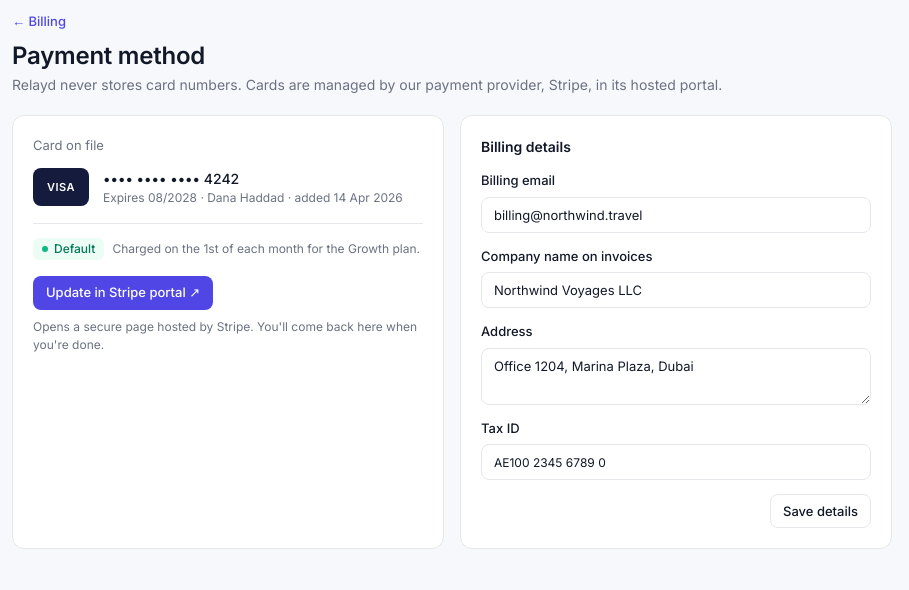
Test: the payment method page (I8) › refuses an invoice address with no billing email
Clear the field labelled "Billing email" at (676, 215), box [481,197,871,233]
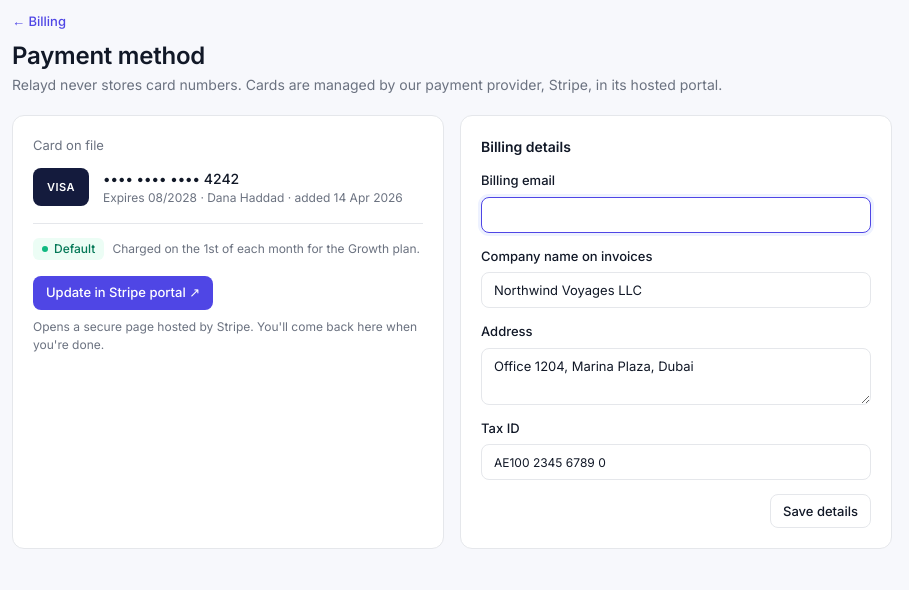
Click the button "Save details" at (820, 511), box [770,494,871,528]
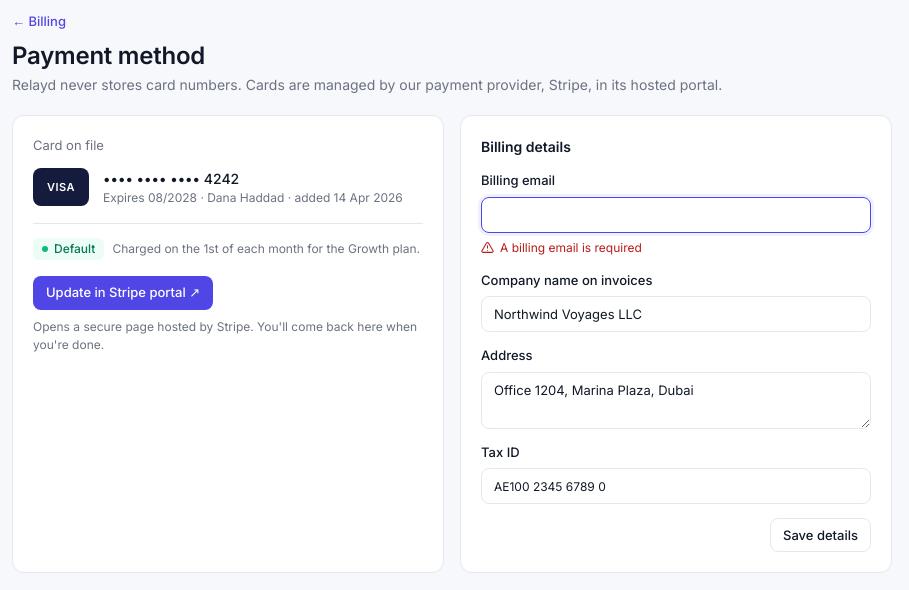
Expected: the text "A billing email is required" is shown, [481,240,642,255]
